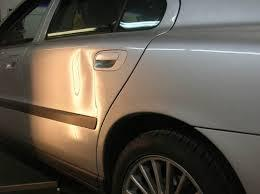Door: (27, 41, 109, 174)
